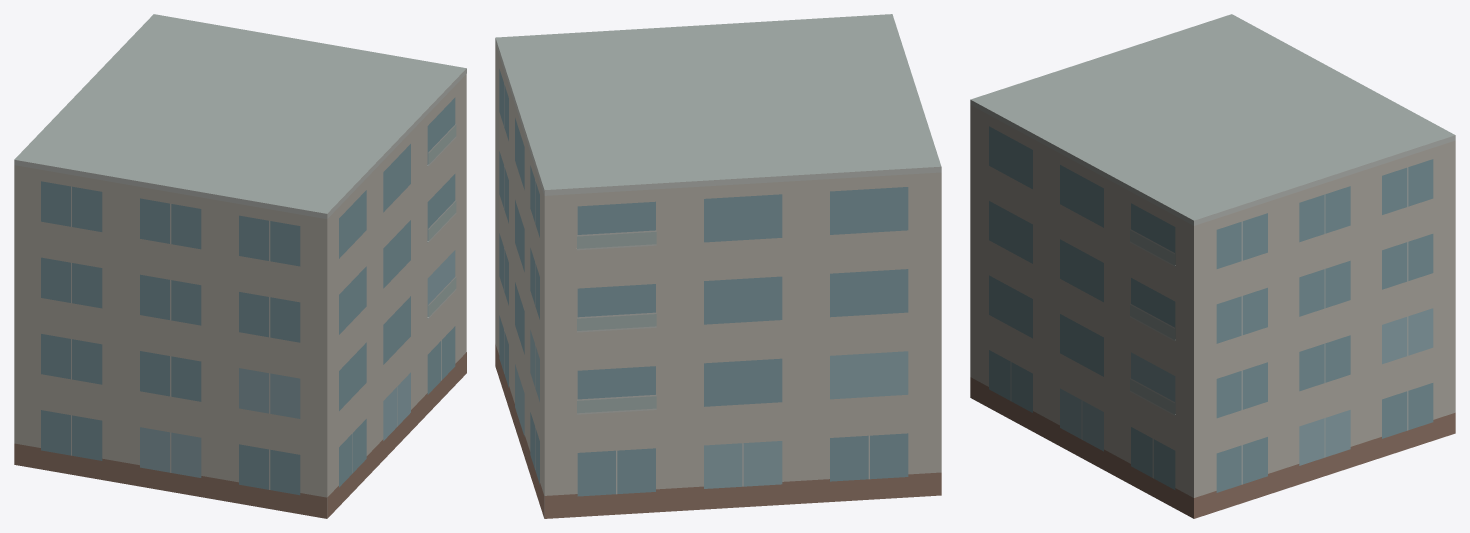
Rendered from survey-upis-32709643.glb.
3 views of the same model, side by side, from view 1: azimuth 30°, elevation 25°; view 2: azimuth 150°, elevation 25°; view 3: azimuth 270°, elevation 25° (orthographic). The views are drawn at different scales.
Visible parts, largest first — view 1: survey-upis-32709643.tmp; view 2: survey-upis-32709643.tmp; view 3: survey-upis-32709643.tmp.
Boxes of the visible parts, bbox=[...] form: survey-upis-32709643.tmp: bbox=[14, 14, 466, 518]; survey-upis-32709643.tmp: bbox=[495, 14, 941, 518]; survey-upis-32709643.tmp: bbox=[970, 14, 1455, 518].
Size of the model in its own units: 20.52 by 13.8 by 20.36.
